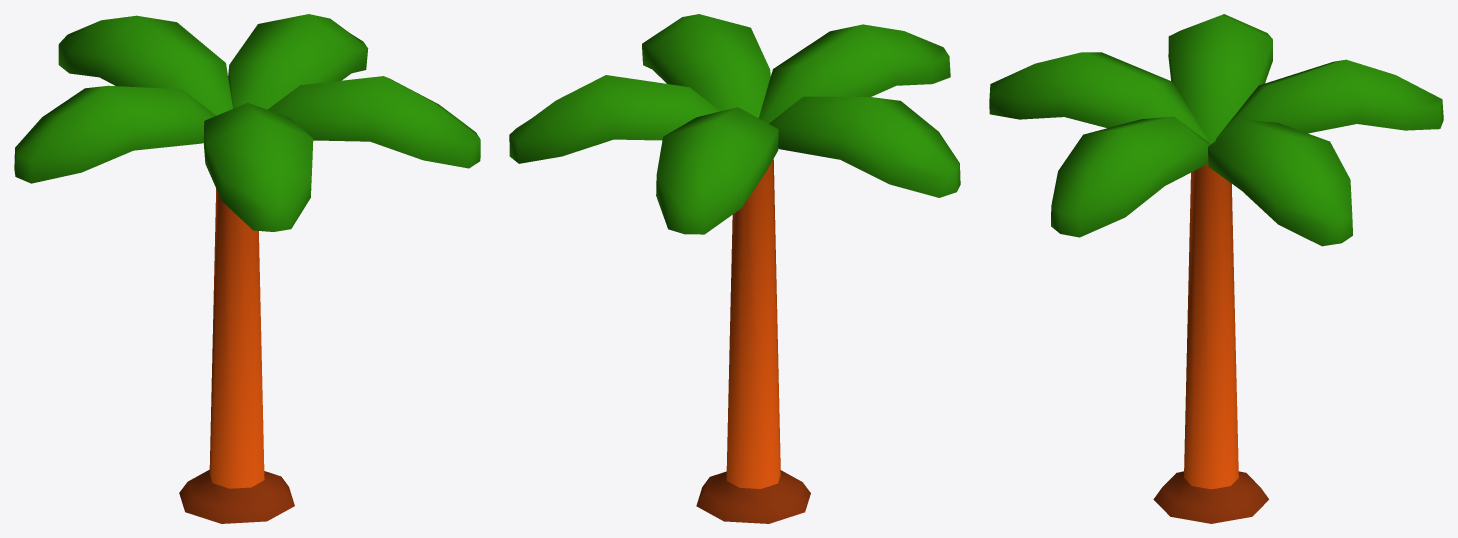
File: palm_tree.glb
The picture shows the model from 3 angles, left to right: view 1: azimuth 30°, elevation 25°; view 2: azimuth 150°, elevation 25°; view 3: azimuth 270°, elevation 25°; orthographic projection. The views are drawn at different scales.
Visible parts, largest first — view 1: palmiye; view 2: palmiye; view 3: palmiye.
Part boxes in pixels (bbox=[...]): palmiye: bbox=[14, 14, 480, 523]; palmiye: bbox=[509, 14, 960, 523]; palmiye: bbox=[989, 14, 1443, 523].
Size of the model in its own units: 353 by 376 by 363.
1 material, 1 textured.
